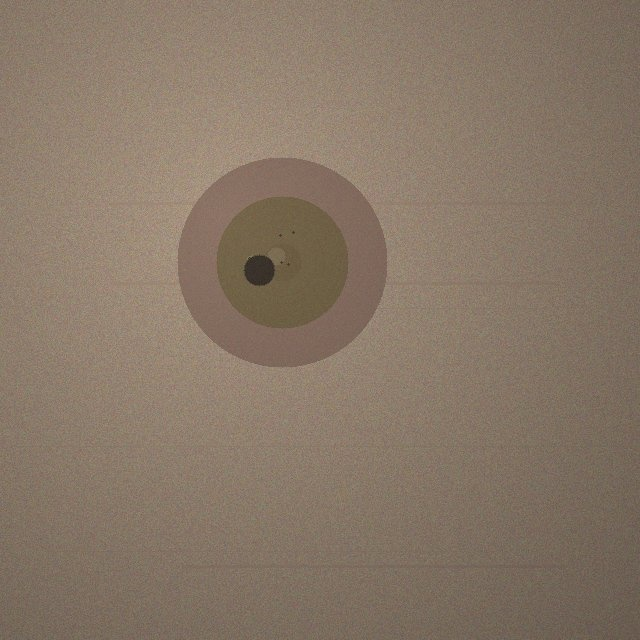shrinkage: (177, 157, 387, 367)
